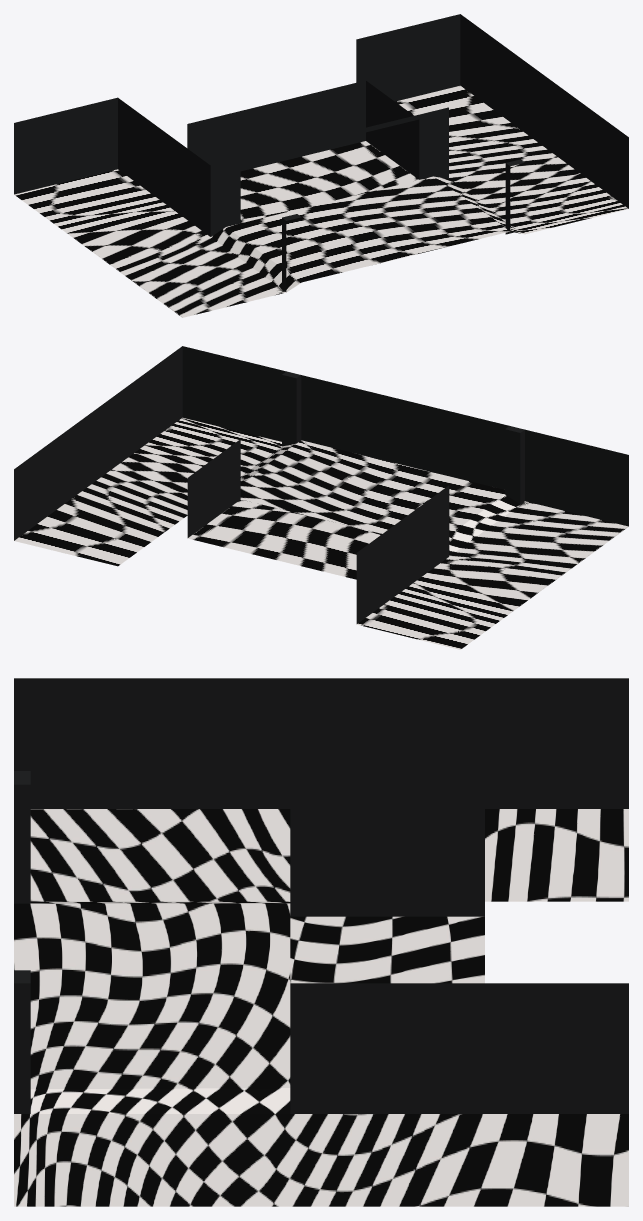
File: escenario.fbx
3 views of the same model, one above another, from view 1: azimuth 30°, elevation 25°; view 2: azimuth 150°, elevation 25°; view 3: azimuth 270°, elevation 25° (orthographic). The views are drawn at different scales.
Parts seen in each view (by area): view 1: Cube; view 2: Cube; view 3: Cube.
Part boxes in pixels (bbox=[...]): Cube: bbox=[14, 14, 628, 317]; Cube: bbox=[14, 346, 628, 649]; Cube: bbox=[14, 678, 628, 1206].
Size of the model in its own units: 6614 by 1014 by 4324.
